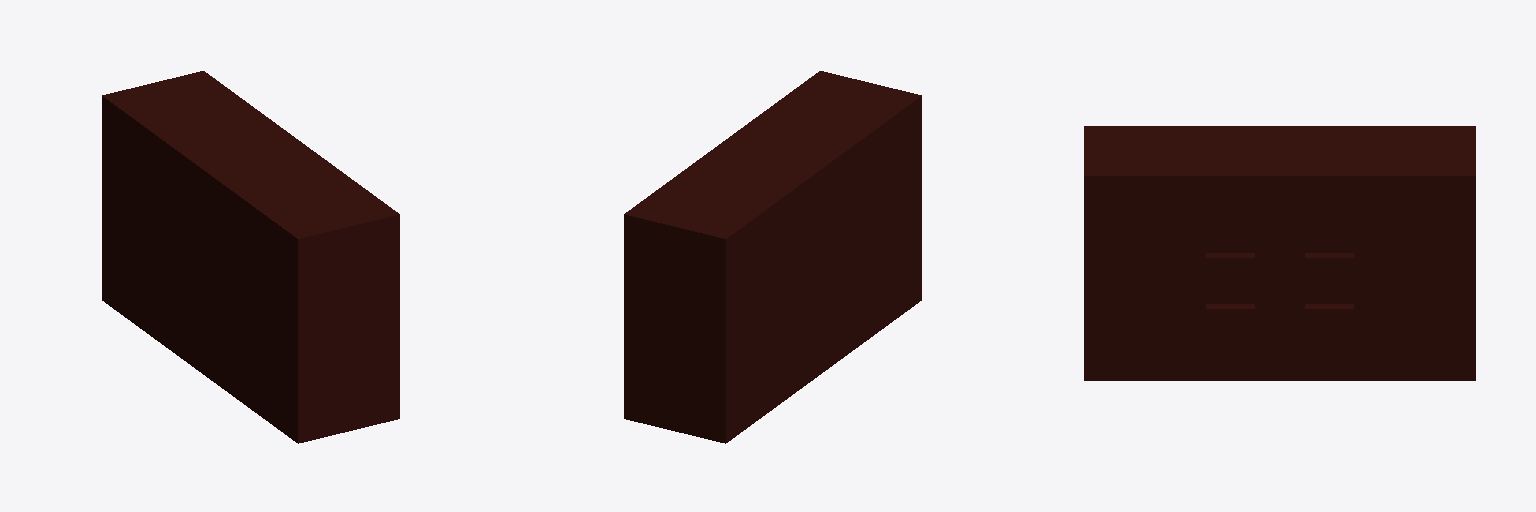
The model's file is drawers.obj.
3 renders of one model, left to right at view 1: azimuth 30°, elevation 25°; view 2: azimuth 150°, elevation 25°; view 3: azimuth 270°, elevation 25°, orthographic.
Parts seen in each view (by area): view 1: Cube; view 2: Cube; view 3: Cube.
Part boxes in pixels (x1,y1,x2,y2): Cube: (102, 71, 399, 443); Cube: (624, 71, 921, 443); Cube: (1084, 126, 1475, 380).
Bounding box in the file's own units: 2.2 × 3.83 × 6.67.